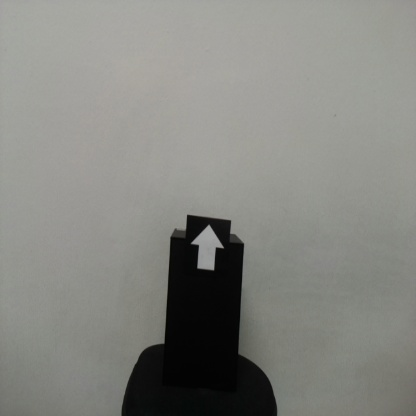id_1: (187, 217, 230, 281)
